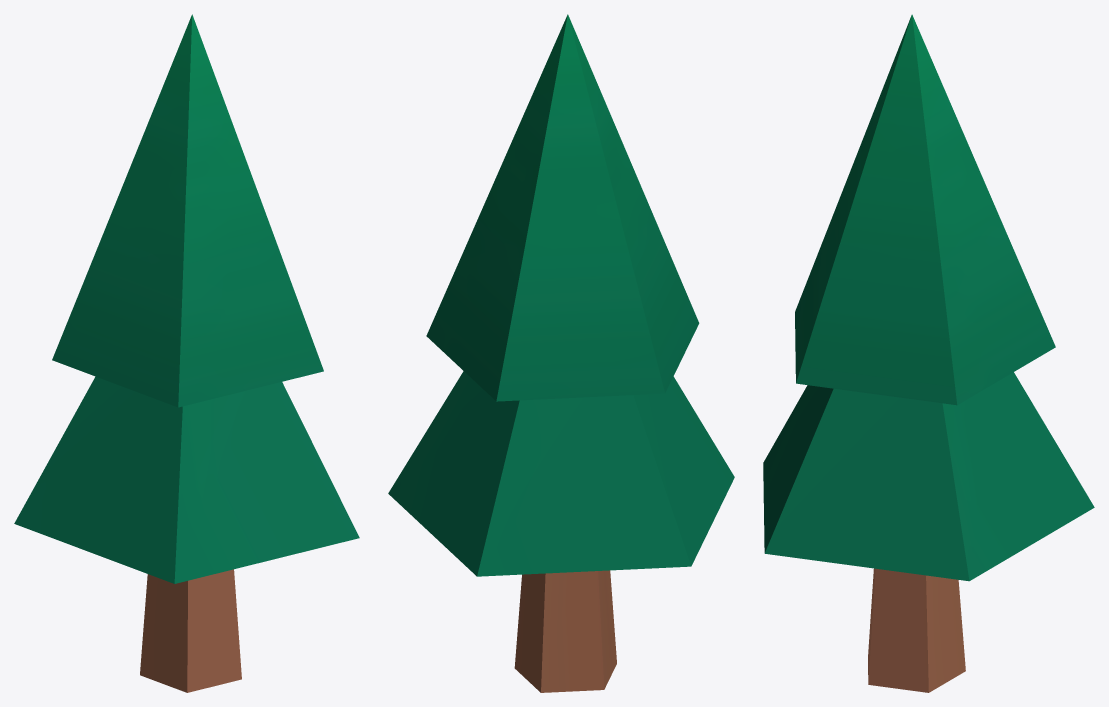
Rendered from kay-arvore-vila.gltf.
3 renders of one model, left to right at view 1: azimuth 30°, elevation 25°; view 2: azimuth 150°, elevation 25°; view 3: azimuth 270°, elevation 25°, orthographic.
Visible parts, largest first — view 1: tree_single_A; view 2: tree_single_A; view 3: tree_single_A.
Boxes of the visible parts, box(x1,y1,x2,y2) form: tree_single_A: box(14, 14, 359, 692); tree_single_A: box(388, 14, 734, 692); tree_single_A: box(763, 14, 1094, 692).
Bounding box in the file's own units: 2.87 × 5.98 × 2.74.
Materials: 1 (1 with a texture image).
